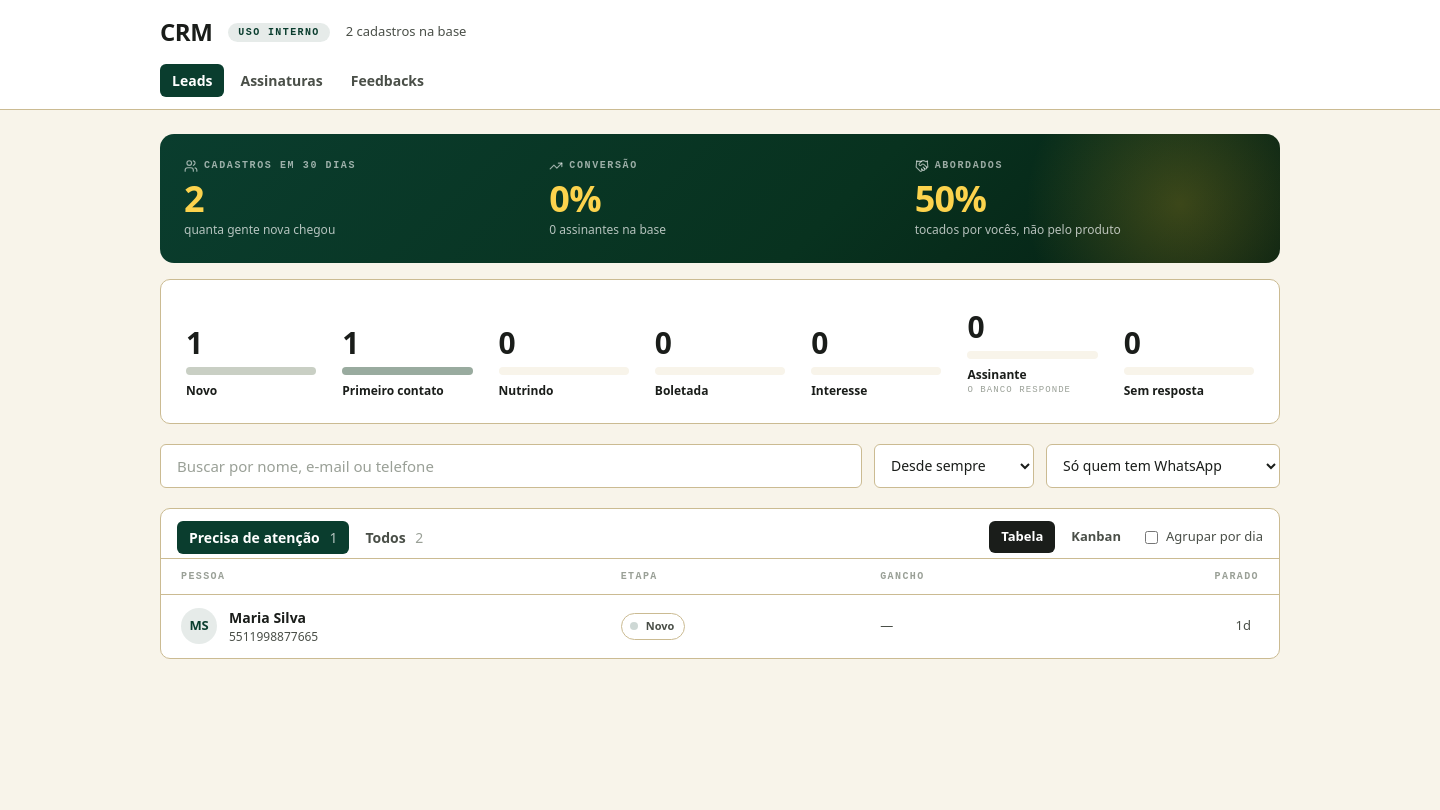
Test: PainelCrm · o funil › clicar de novo na mesma posição limpa o filtro
Click the radio button labelled "Todos 2": coordinates (394, 537) [353,520,435,554]
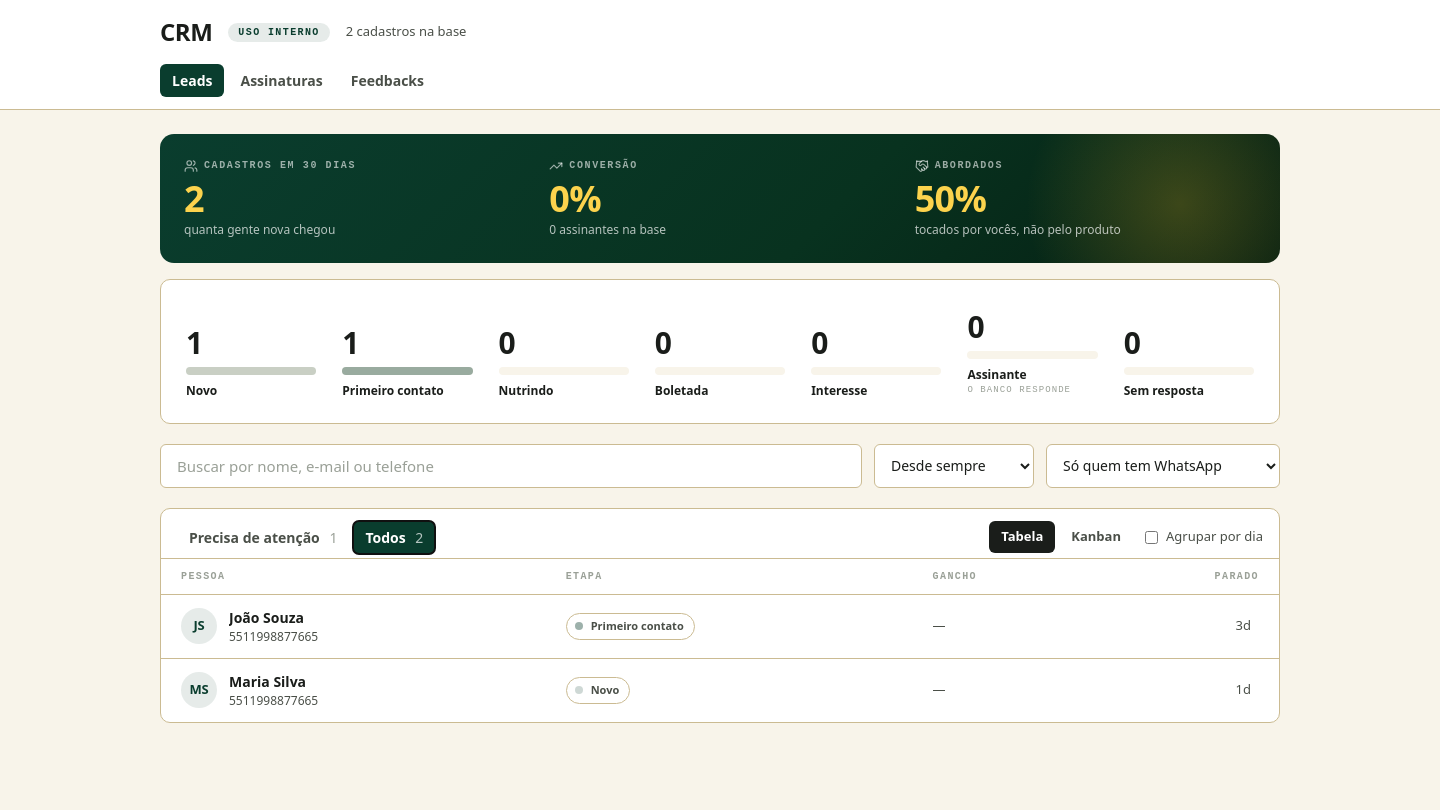
Click the button "1 Primeiro contato": coordinates (407, 359) [333,312,482,406]
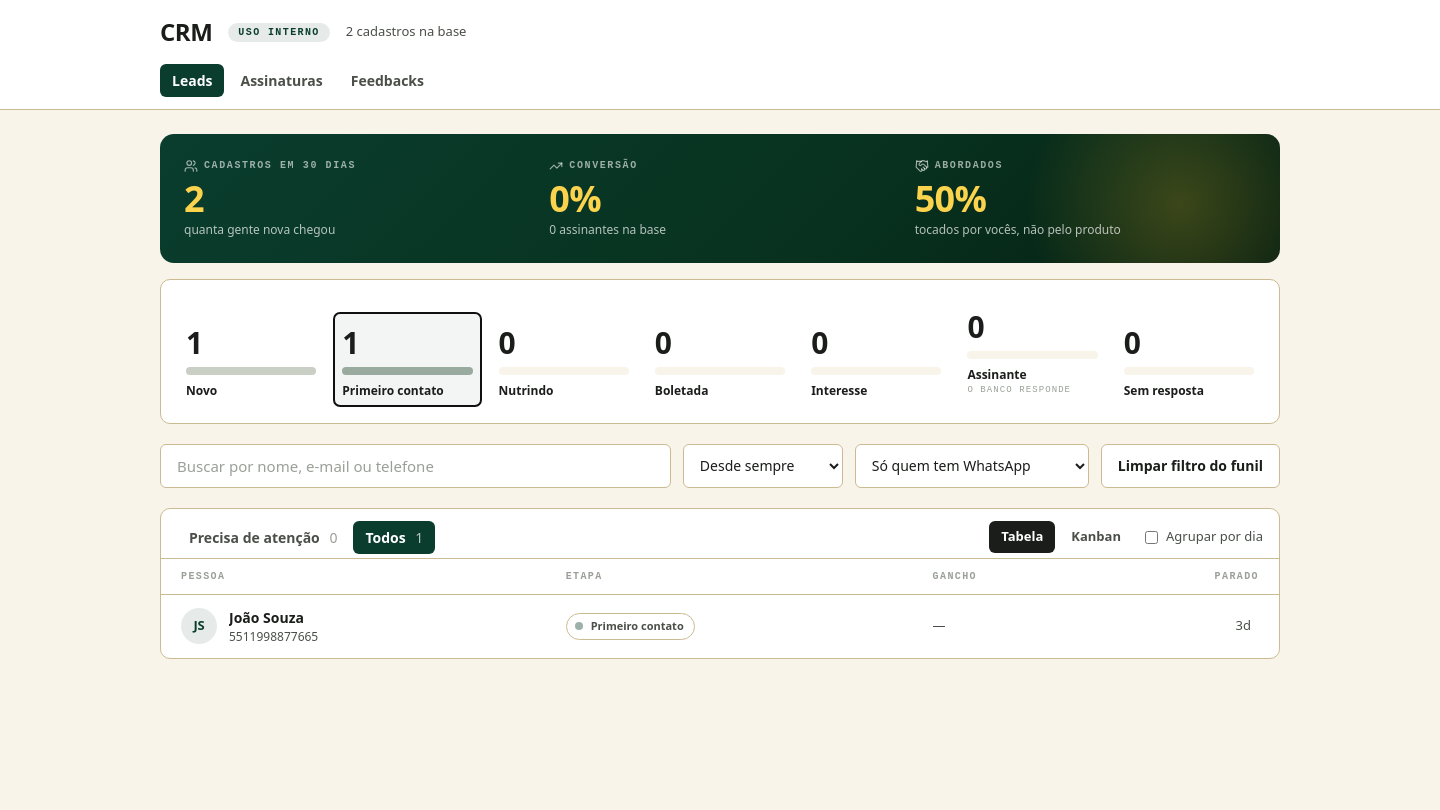
Click the button "1 Primeiro contato": coordinates (407, 359) [333,312,482,406]
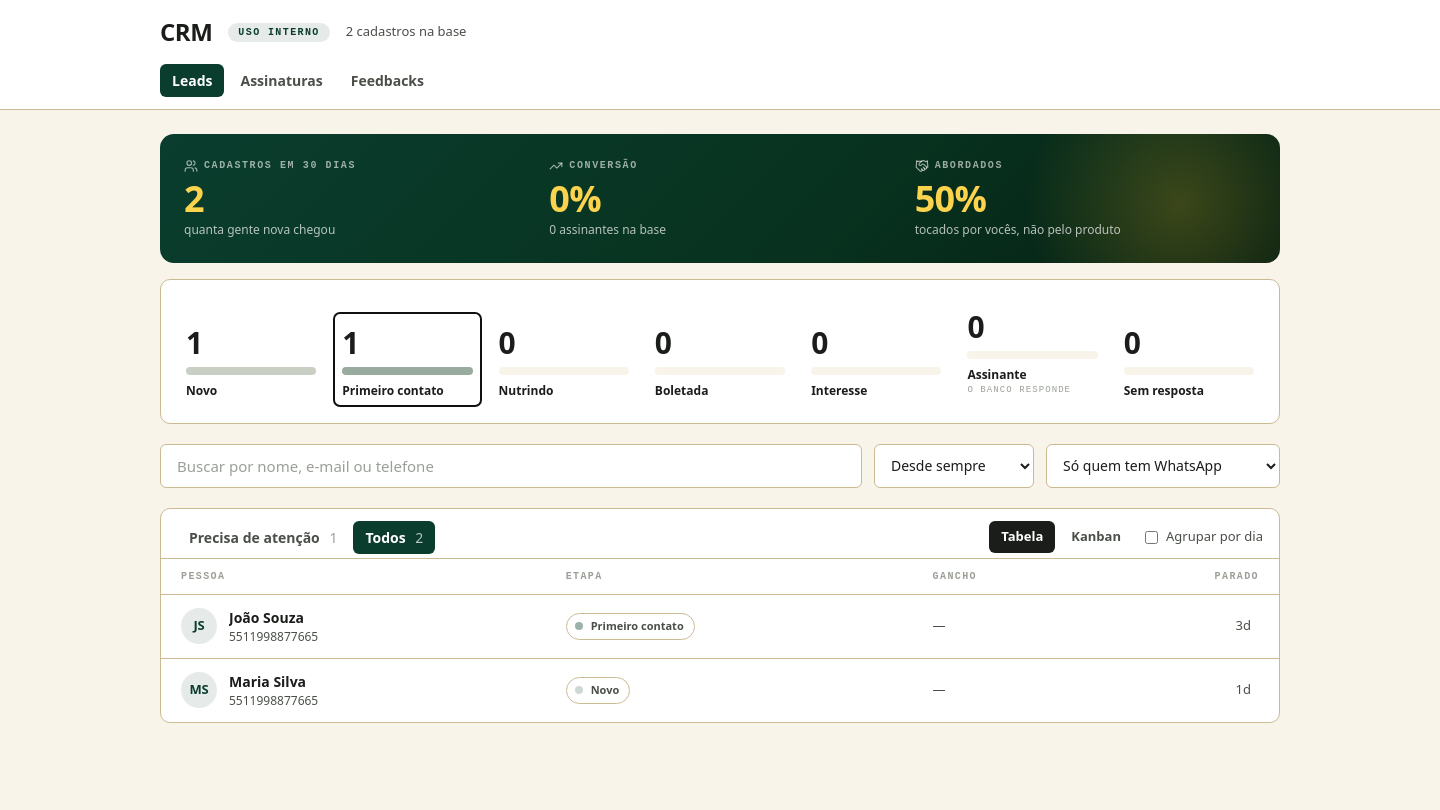
Expected: the link "Maria Silva" is shown, [229,670,306,692]
